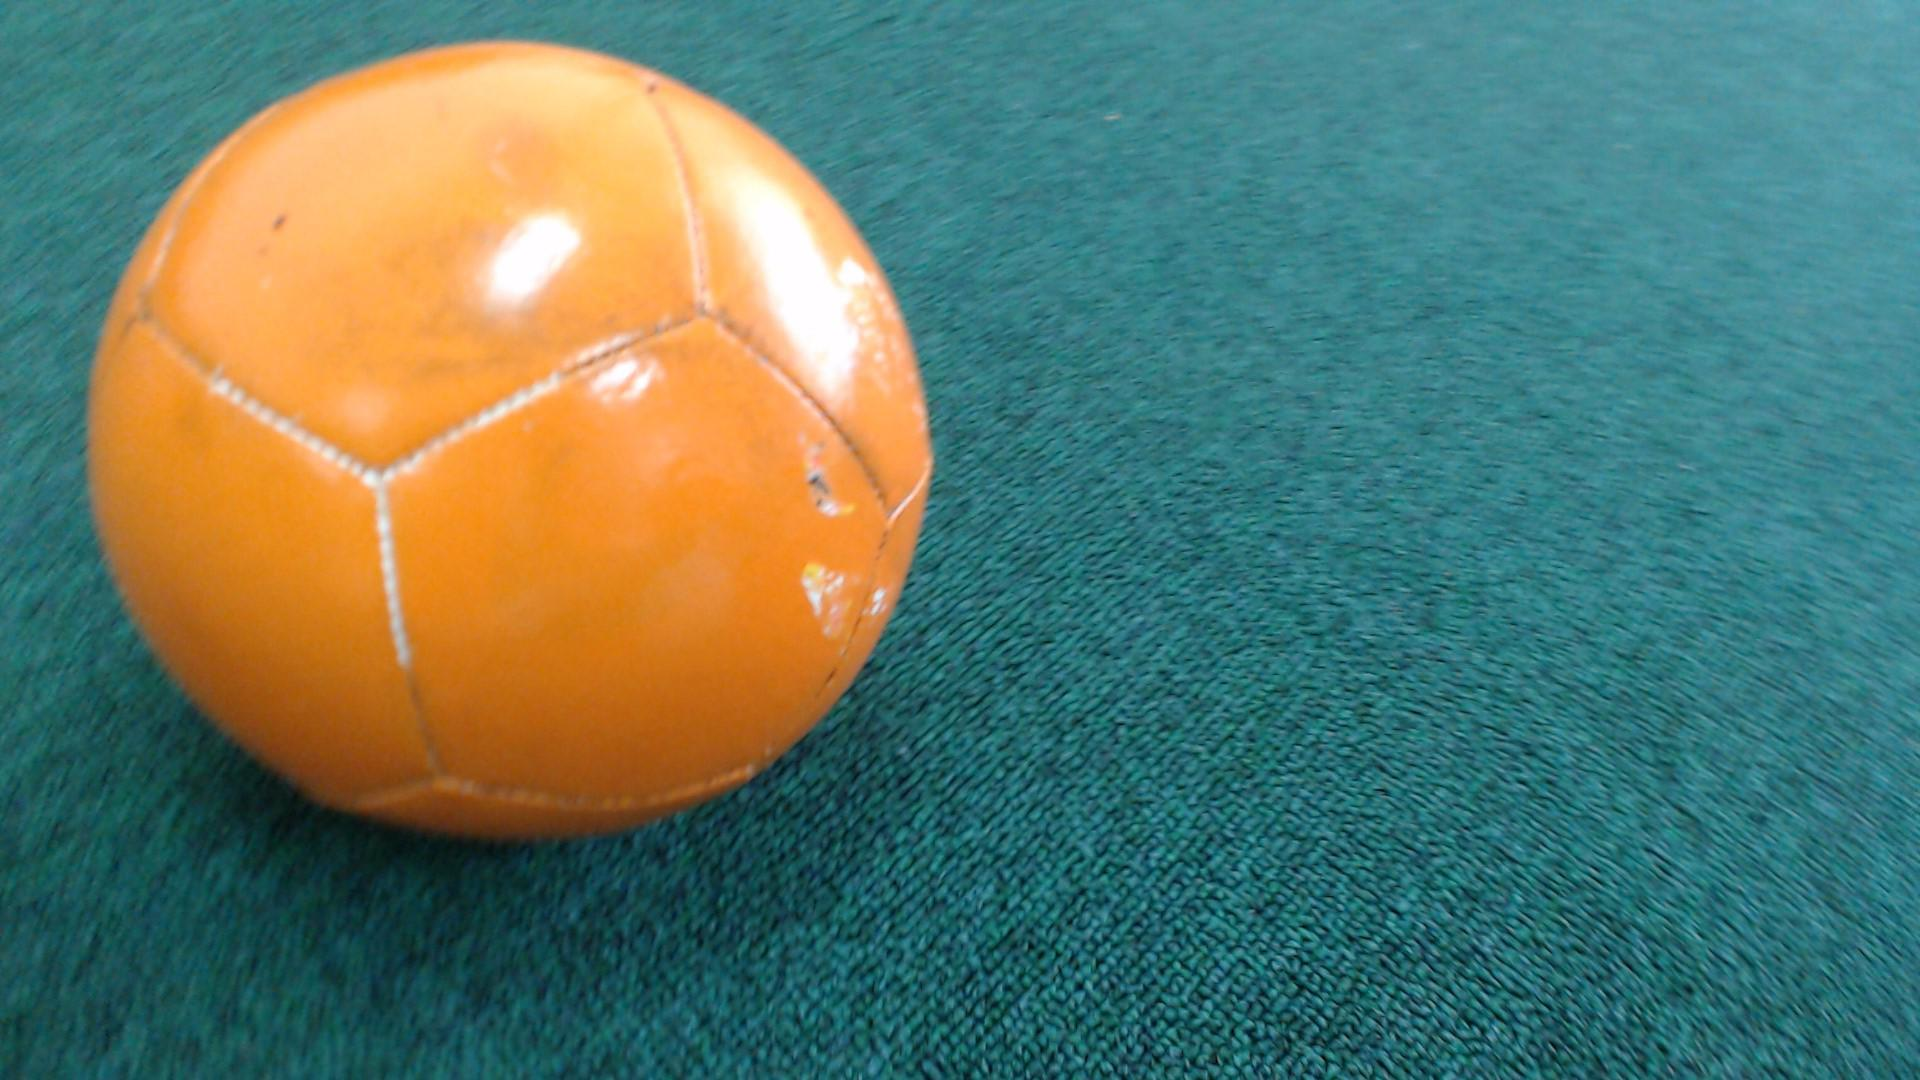bola: (58, 12, 963, 861)
